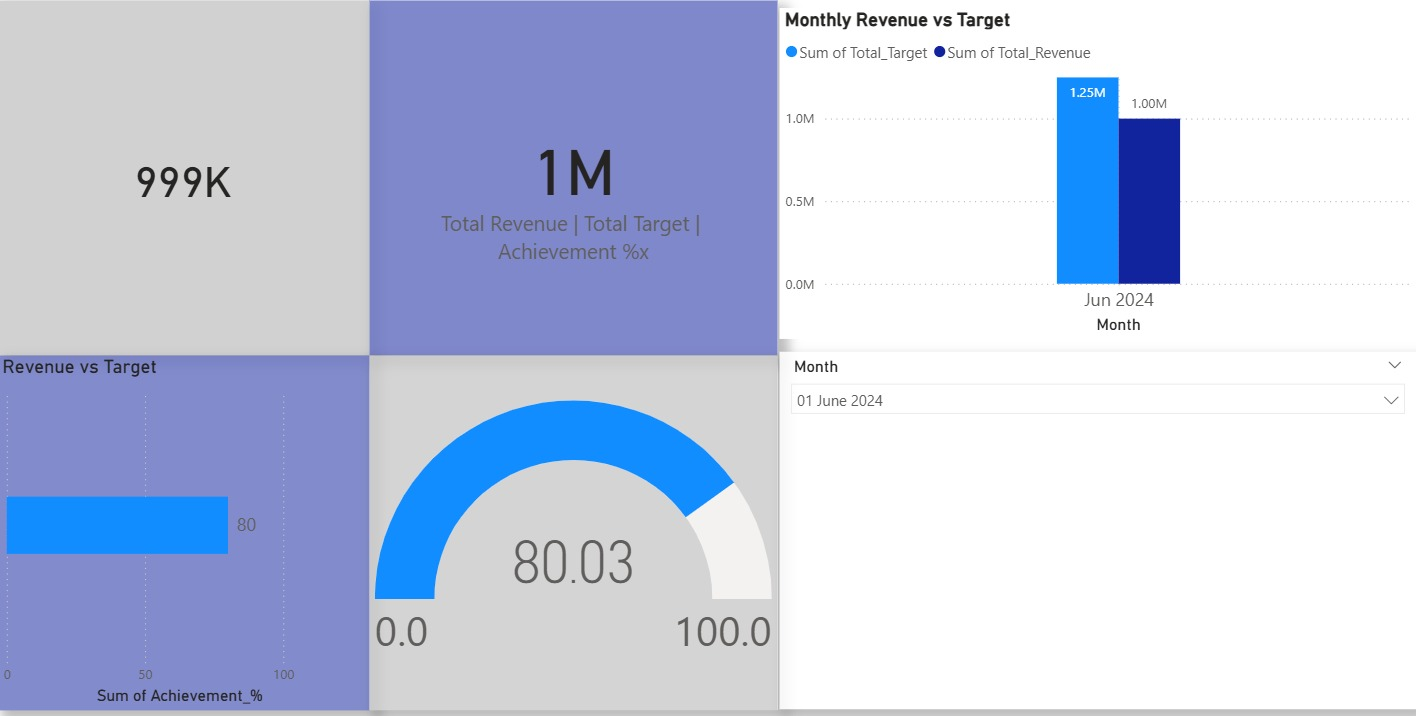

This screenshot's page, from the dashboard's own definition file:
{"tool":"powerbi","page":{"name":"Page 1","canvas":[1280,720],"ordinal":0},"visuals":[{"type":"card","fields":{"Values":["Sum(powerbi_monthly_kpi.Total_Revenue)"]},"box":[0,16,336,320],"z":0},{"type":"card","fields":{"Values":["Sum(powerbi_monthly_kpi.Total_Target)"]},"box":[336,16,368,320],"z":1000},{"type":"barChart","title":"Revenue vs Target","fields":{"Y":["Sum(powerbi_monthly_kpi.Achievement_%)"]},"box":[0,336,336,320],"z":2000},{"type":"clusteredColumnChart","title":"Monthly Revenue vs Target","fields":{"Y":["Sum(powerbi_monthly_kpi.Total_Target)","Sum(powerbi_monthly_kpi.Total_Revenue)"],"Category":["powerbi_monthly_kpi.Month"]},"box":[705.3,22,574.7,298.4],"z":3000},{"type":"gauge","fields":{"Y":["Sum(powerbi_monthly_kpi.Achievement_%)"]},"box":[336,336,368,320],"z":4000},{"type":"slicer","fields":{"Values":["powerbi_monthly_kpi.Month"]},"box":[706,333,574,322],"z":5000}]}

Visuals, with their boxes on the page's 1280x720 design canvas (x1, y1, x2, y2). These are canvas units, not pixel positions in the 1416x716 screenshot, which may show the page scaled, cropped or inside an application window:
card - Sum(powerbi_monthly_kpi.Total_Revenue): 0, 16, 336, 336
card - Sum(powerbi_monthly_kpi.Total_Target): 336, 16, 704, 336
"Revenue vs Target" barChart: 0, 336, 336, 656
"Monthly Revenue vs Target" clusteredColumnChart: 705, 22, 1280, 320
gauge - Sum(powerbi_monthly_kpi.Achievement_%): 336, 336, 704, 656
slicer - powerbi_monthly_kpi.Month: 706, 333, 1280, 655
